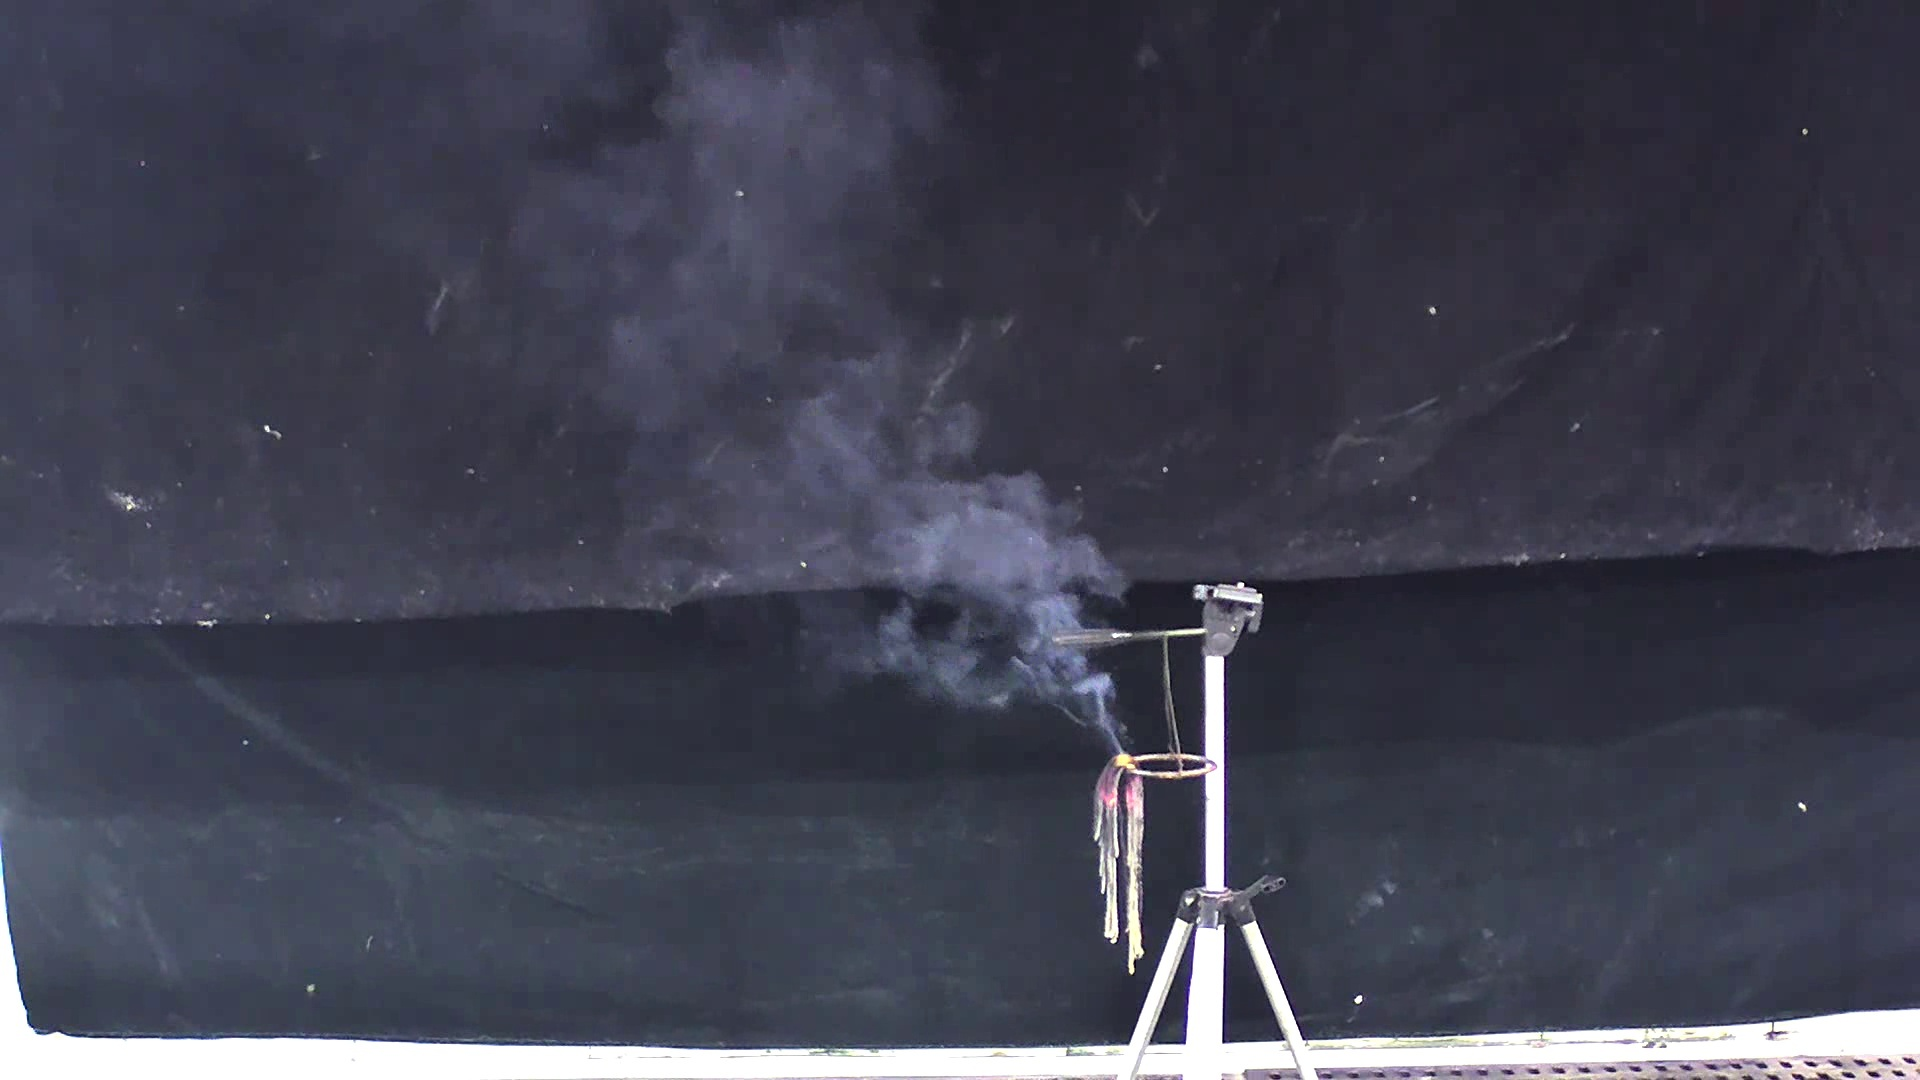smoke: (396, 20, 1146, 757)
